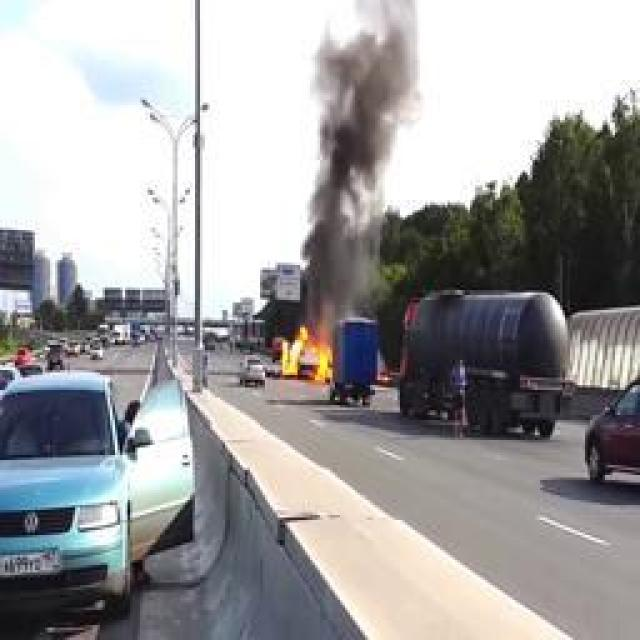Fire: (281, 306, 334, 382)
